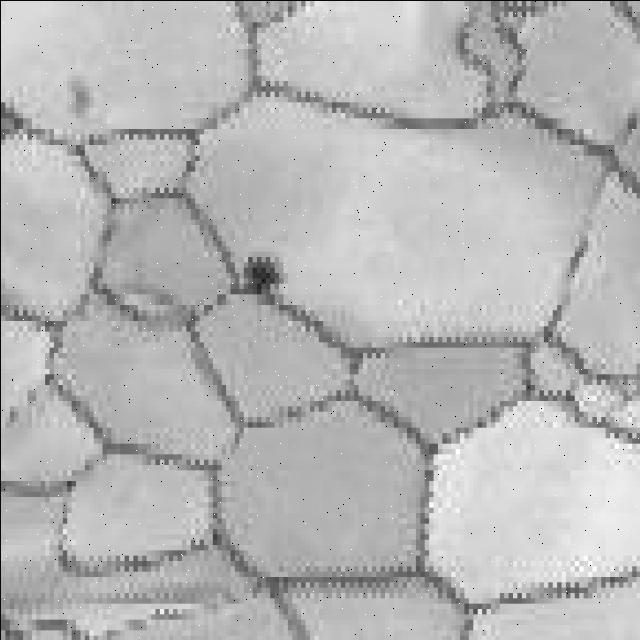good_void: (236, 254, 287, 296)
